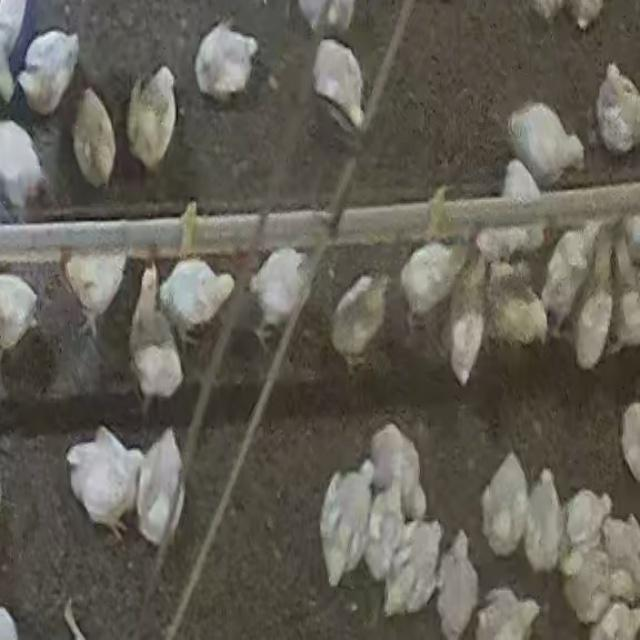chicken: (66, 424, 142, 542), (127, 262, 183, 409), (317, 458, 377, 587), (379, 513, 442, 618), (160, 258, 234, 346), (479, 162, 545, 260), (510, 102, 586, 184), (248, 248, 311, 344), (136, 426, 185, 549), (329, 274, 389, 373), (368, 422, 426, 524), (484, 260, 547, 352), (539, 224, 594, 329), (446, 251, 488, 387), (480, 450, 531, 560), (17, 30, 80, 117), (126, 67, 177, 174), (399, 240, 463, 324), (195, 22, 258, 104), (0, 119, 50, 217), (434, 532, 479, 638), (316, 41, 368, 131), (72, 88, 117, 190), (365, 478, 408, 584), (560, 544, 614, 625), (522, 468, 564, 572), (595, 60, 640, 152), (572, 280, 614, 372), (560, 484, 611, 558), (599, 512, 640, 602), (474, 586, 540, 640)
